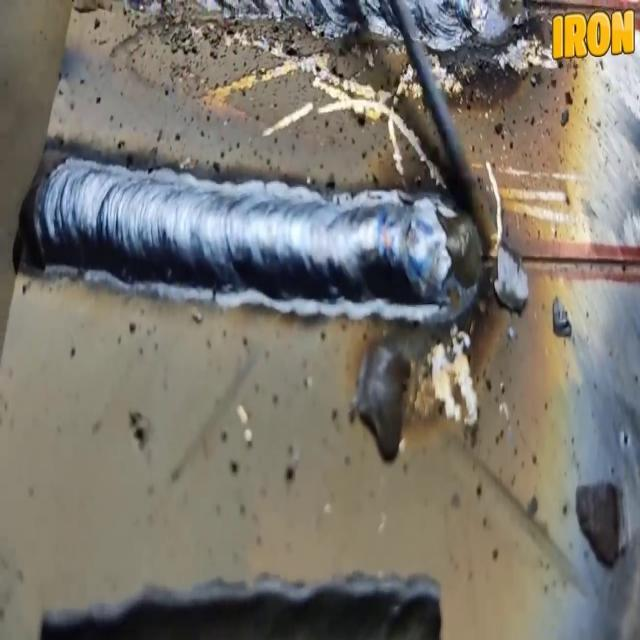Good Weld: (66, 155, 392, 305)
